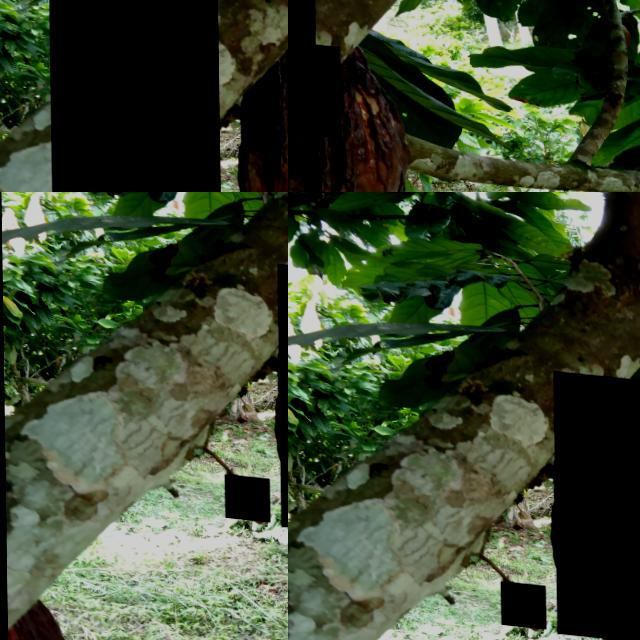Fitoftora: (47, 0, 219, 192), (553, 365, 640, 637)
Monilia: (288, 32, 339, 131)
Sana: (224, 470, 269, 517), (500, 577, 545, 624)
